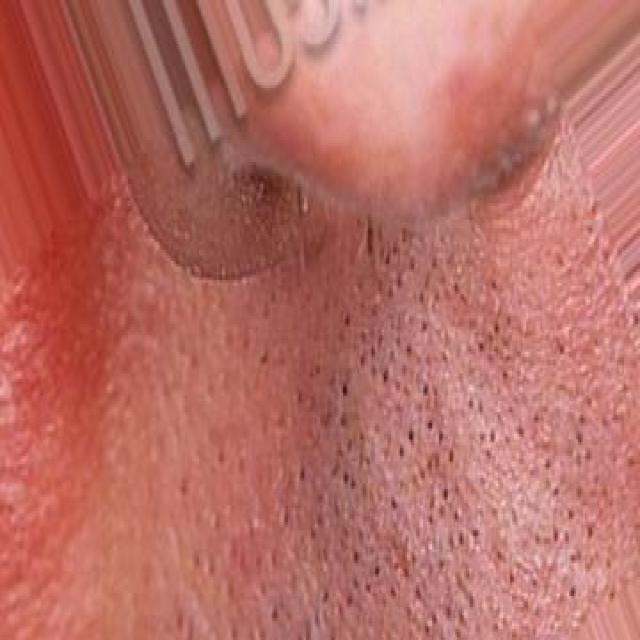Rosacea: (0, 205, 132, 611)
